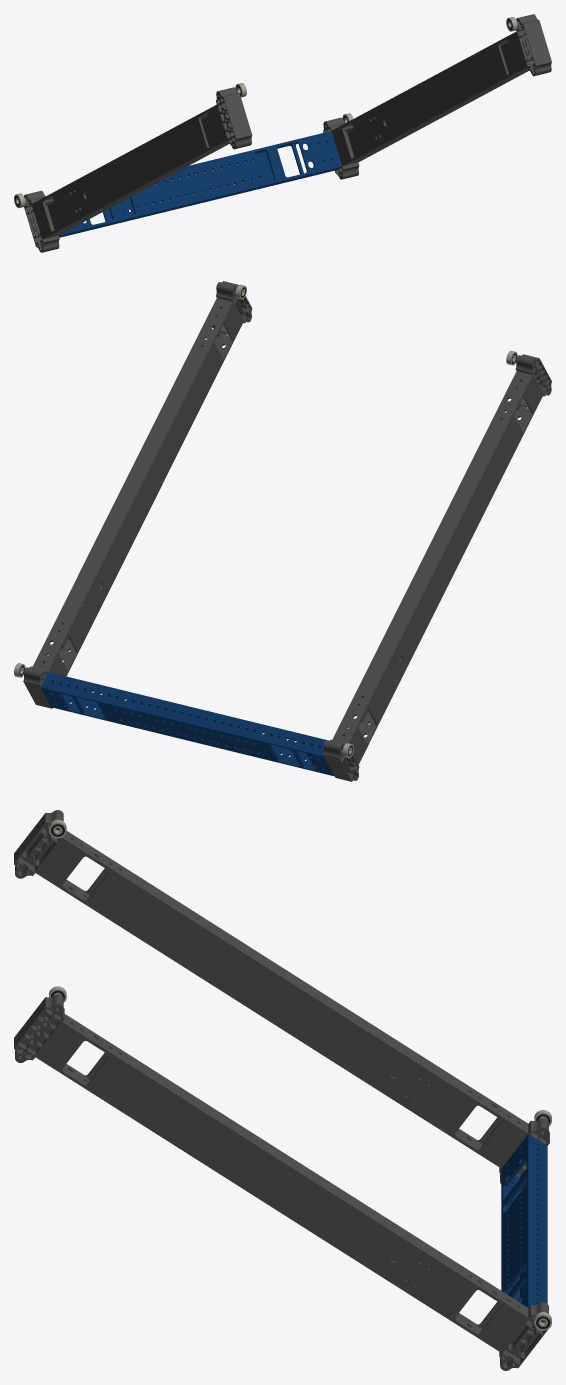
3 renders of one model, top to bottom at view 1: azimuth 30°, elevation 25°; view 2: azimuth 150°, elevation 25°; view 3: azimuth 270°, elevation 25°, orthographic. The views are drawn at different scales.
Parts seen in each view (by area): view 1: Tube 2"x1"x24.132" (×2), Tube 2"x1"x17.5", WCP-0199-001 Rev2 (×4); view 2: Tube 2"x1"x24.132" (×2), Tube 2"x1"x17.5", WCP-0199-001 Rev2 (×4); view 3: Tube 2"x1"x24.132" (×2), Tube 2"x1"x17.5", WCP-0199-001 Rev2 (×3).
Part boxes in pixels (x1,y1,x2,y2): Tube 2"x1"x24.132" (×2): (32, 31, 528, 239); Tube 2"x1"x17.5": (59, 131, 342, 237); WCP-0199-001 Rev2 (×4): (24, 14, 551, 252); Tube 2"x1"x24.132" (×2): (32, 298, 543, 764); Tube 2"x1"x17.5": (40, 672, 334, 776); WCP-0199-001 Rev2 (×4): (23, 281, 551, 781); Tube 2"x1"x24.132" (×2): (35, 831, 528, 1352); Tube 2"x1"x17.5": (501, 1134, 547, 1307); WCP-0199-001 Rev2 (×3): (14, 810, 548, 1370).
Size of the model in its own units: 0.5223 by 0.4392 by 0.5797.
